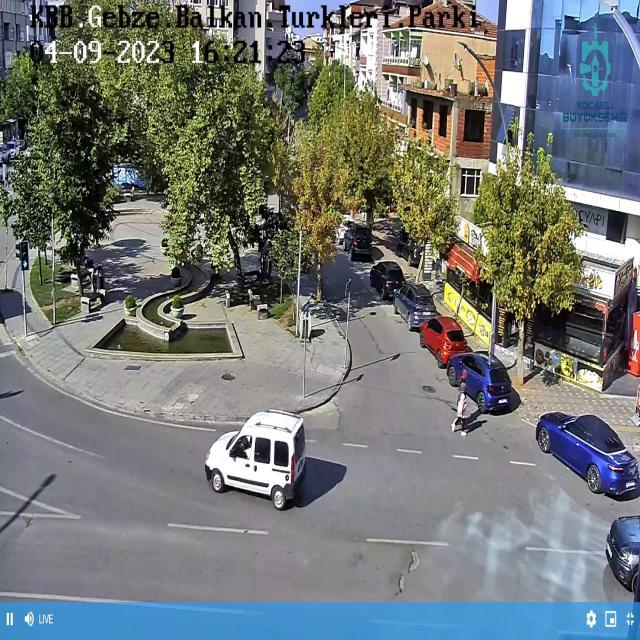car: (205, 410, 305, 509), (536, 412, 640, 494), (419, 316, 469, 368), (606, 515, 640, 589), (392, 282, 439, 330), (370, 261, 405, 299), (344, 224, 371, 261)
traffic-lights: (16, 241, 30, 271)
